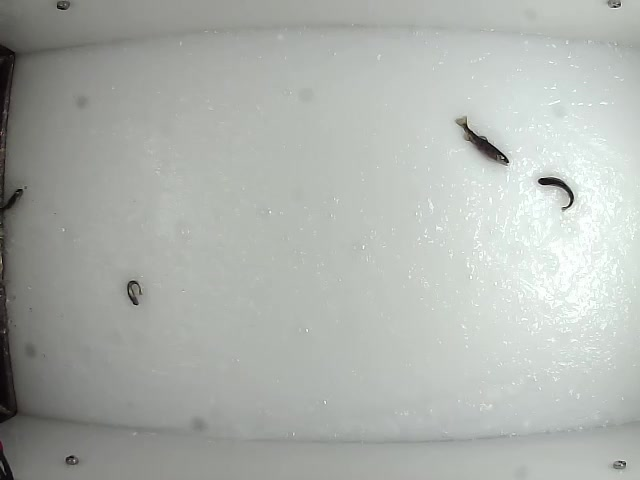fish: (454, 115, 511, 168), (534, 175, 574, 213), (124, 276, 145, 307)
